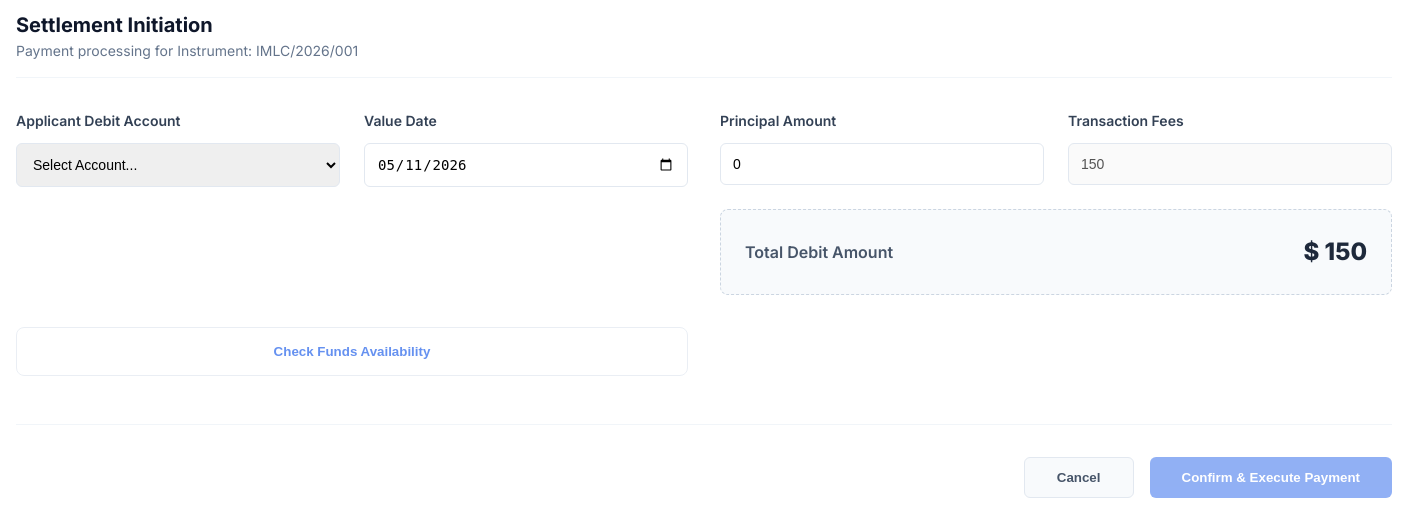
Test case: SettlementInitiation (BDD-IMP-FLOW-07,08 / BDD-IMP-VAL-01) › BDD-IMP-FLOW-08: Validates funds availability before final submission
# Select an account first
Select "Main Trading AC (USD) - *9921" in the dropdown labelled "Applicant Debit Account" at (178,165), box [16,143,340,187]
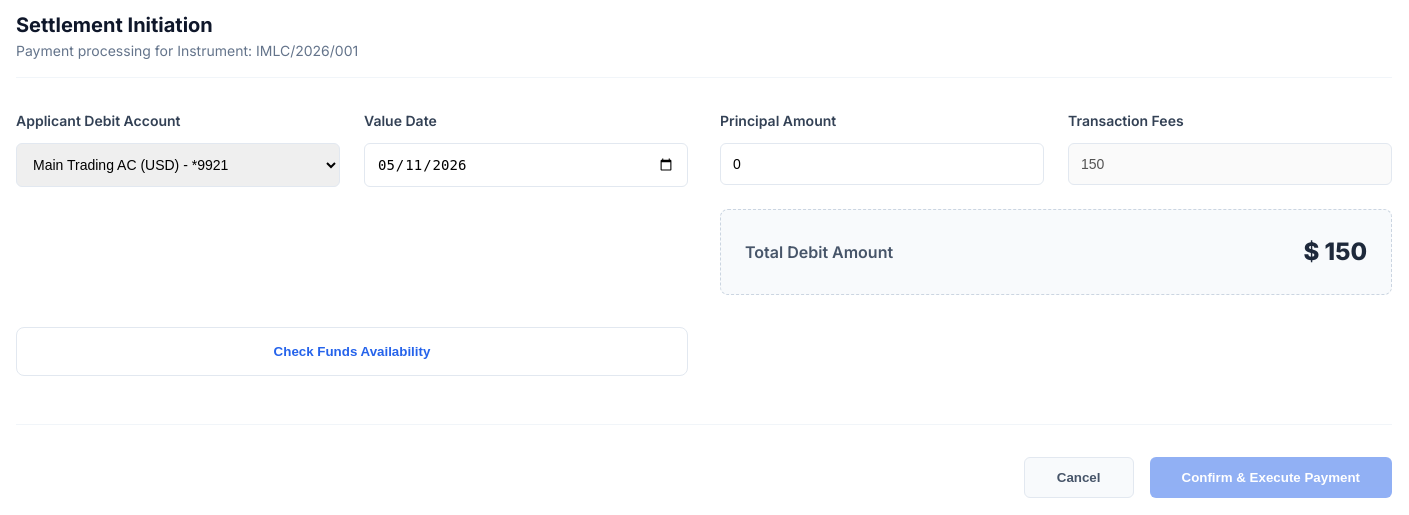
Click the button "Check Funds Availability" at (352,352), box [16,327,688,376]
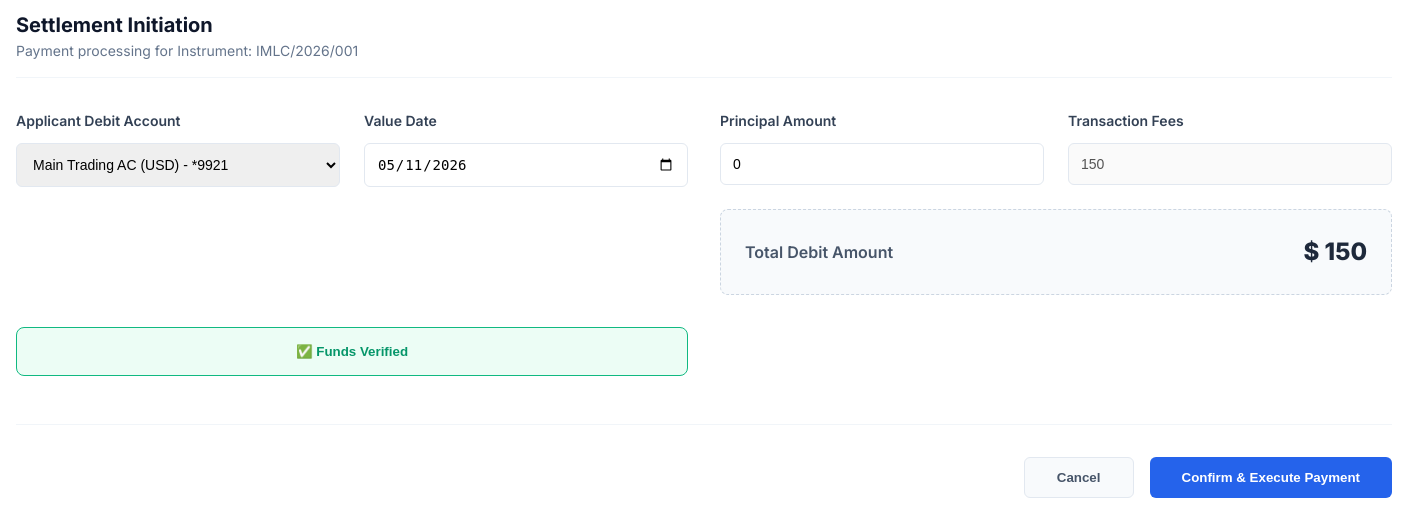
Expected: the button "✅ Funds Verified" is shown, [16,327,688,376]
